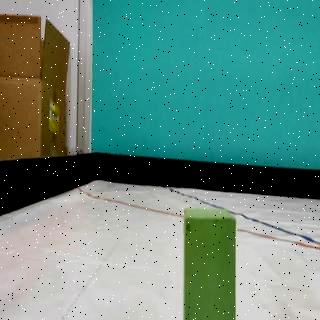greenbox: (183, 206, 238, 320)
